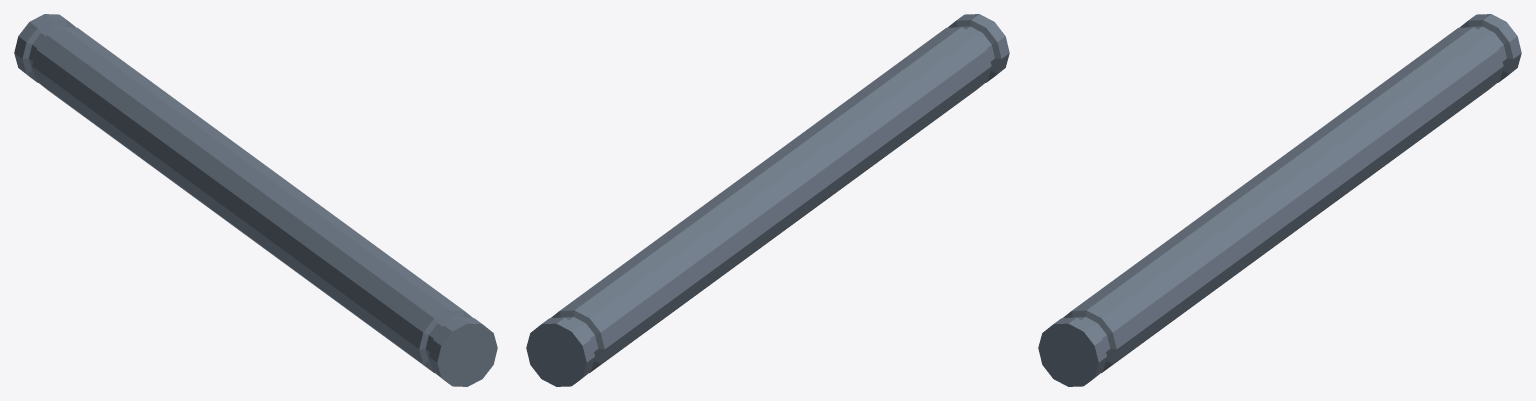
3 renders of one model, left to right at view 1: azimuth 30°, elevation 25°; view 2: azimuth 150°, elevation 25°; view 3: azimuth 330°, elevation 25°, orthographic.
Parts seen in each view (by area): view 1: Cylinder.001; view 2: Cylinder.001; view 3: Cylinder.001.
Part boxes in pixels (bbox=[...]): Cylinder.001: bbox=[14, 14, 497, 386]; Cylinder.001: bbox=[526, 14, 1009, 386]; Cylinder.001: bbox=[1038, 14, 1521, 386].
Bounding box in the file's own units: 7.84 × 7.84 × 94.92.
